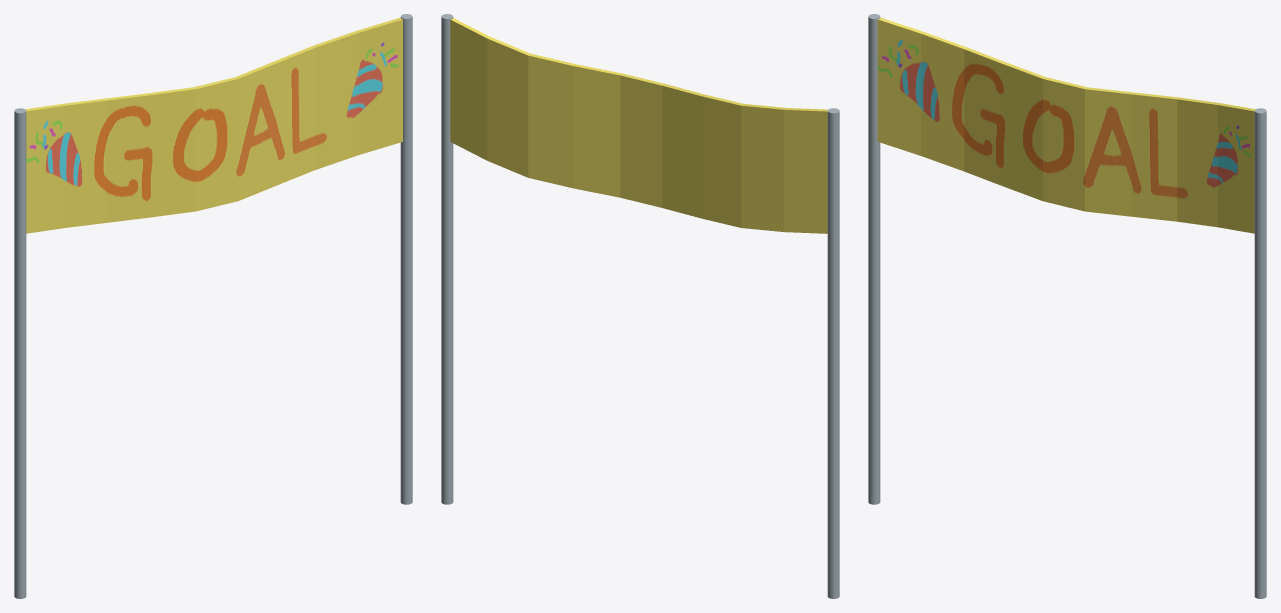
Rendered from Goal.obj.
3 renders of one model, left to right at view 1: azimuth 30°, elevation 25°; view 2: azimuth 150°, elevation 25°; view 3: azimuth 330°, elevation 25°, orthographic.
Visible parts, largest first — view 1: 立方體, 圓柱體, 圓柱體.001; view 2: 立方體, 圓柱體, 圓柱體.001; view 3: 立方體, 圓柱體.001, 圓柱體.
Part boxes in pixels (bbox=[...]): 立方體: bbox=[25, 17, 402, 233]; 圓柱體: bbox=[14, 108, 26, 598]; 圓柱體.001: bbox=[400, 14, 412, 504]; 立方體: bbox=[450, 18, 827, 233]; 圓柱體: bbox=[827, 108, 839, 598]; 圓柱體.001: bbox=[441, 14, 453, 504]; 立方體: bbox=[877, 17, 1255, 233]; 圓柱體.001: bbox=[1254, 108, 1266, 598]; 圓柱體: bbox=[868, 14, 880, 504].
Bounding box in the file's own units: 6.79 × 7.94 × 0.3037.
1 material, 1 textured.
